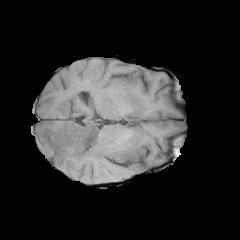glioma: (42, 122, 143, 183)
